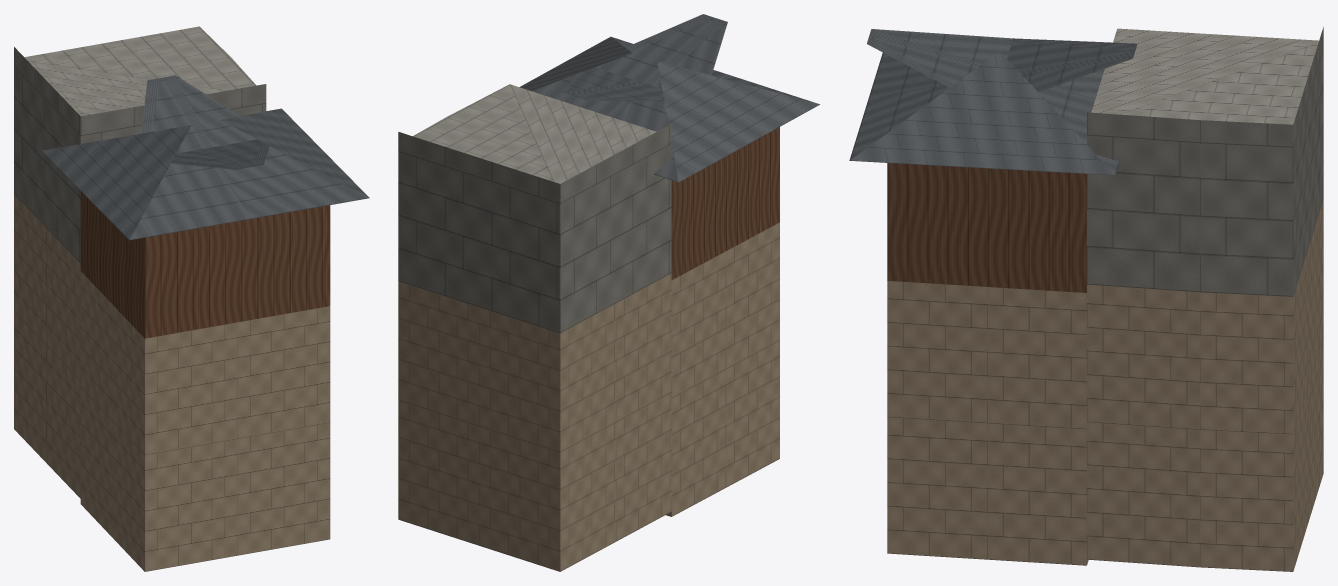
The model's file is bld_c10_27_396.gltf.
3 views of the same model, side by side, from view 1: azimuth 30°, elevation 25°; view 2: azimuth 150°, elevation 25°; view 3: azimuth 270°, elevation 25° (orthographic). The views are drawn at different scales.
Visible parts, largest first — view 1: bld_c10_27_396; view 2: bld_c10_27_396; view 3: bld_c10_27_396.
Boxes of the visible parts, left/top/right/bottom form: bld_c10_27_396: left=14, top=26, right=369, bottom=571; bld_c10_27_396: left=398, top=14, right=819, bottom=571; bld_c10_27_396: left=849, top=27, right=1323, bottom=571.
Size of the model in its own units: 5.03 by 7.7 by 7.09.
Materials: 6 (6 with a texture image).
